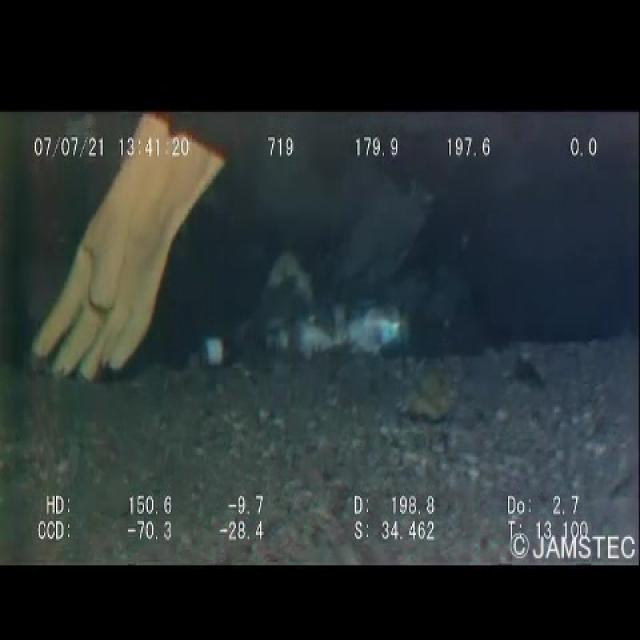plastic: (185, 298, 278, 378)
